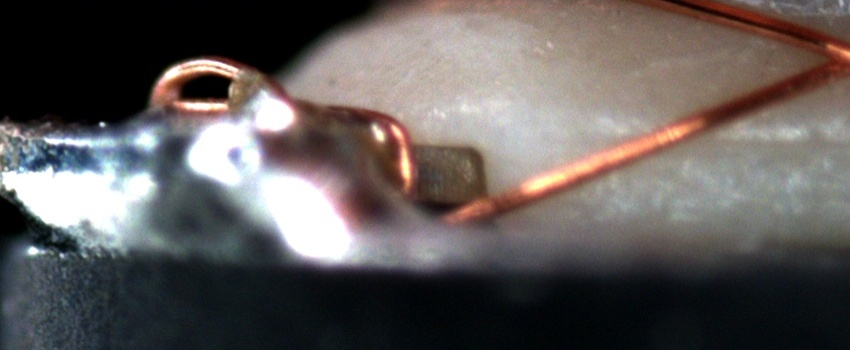CL: (797, 28, 850, 88)
DL: (577, 116, 850, 166)
TE: (143, 52, 429, 214)
